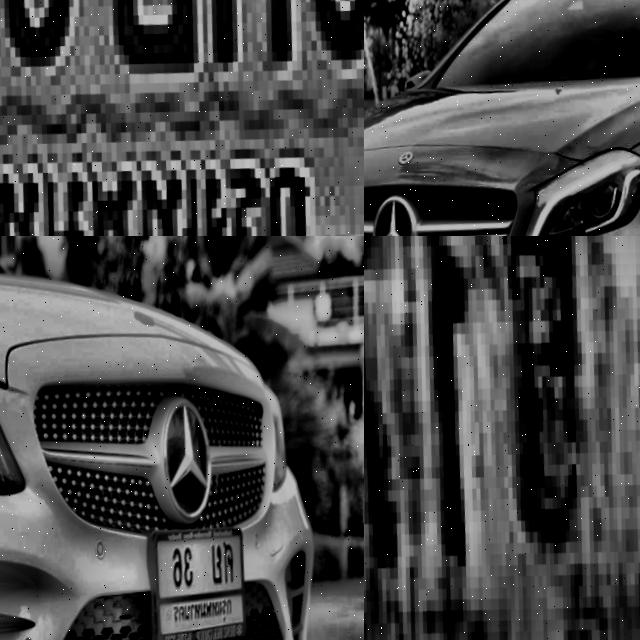license-plate: (364, 236, 640, 640), (0, 0, 364, 236), (129, 520, 248, 640)
